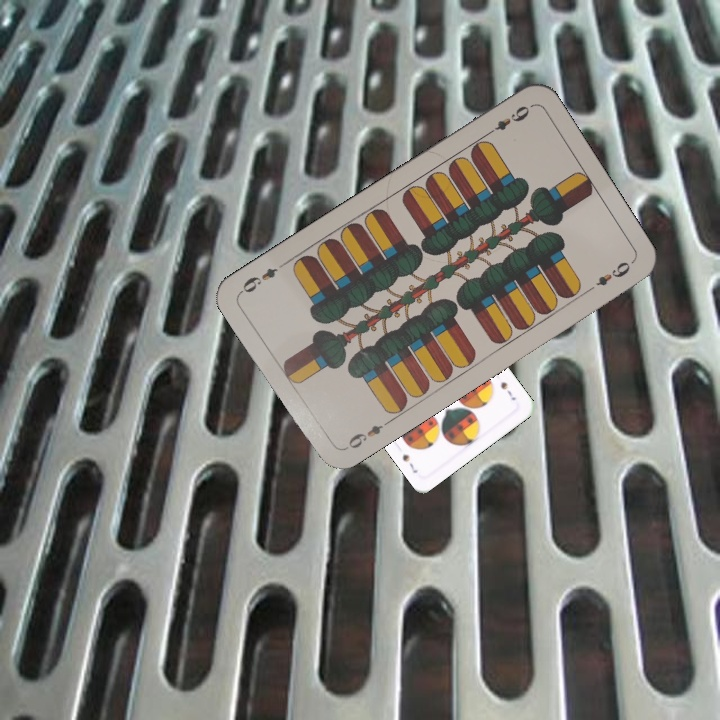E9: (481, 101, 534, 139), (338, 417, 392, 454)
S7: (497, 377, 519, 403)
